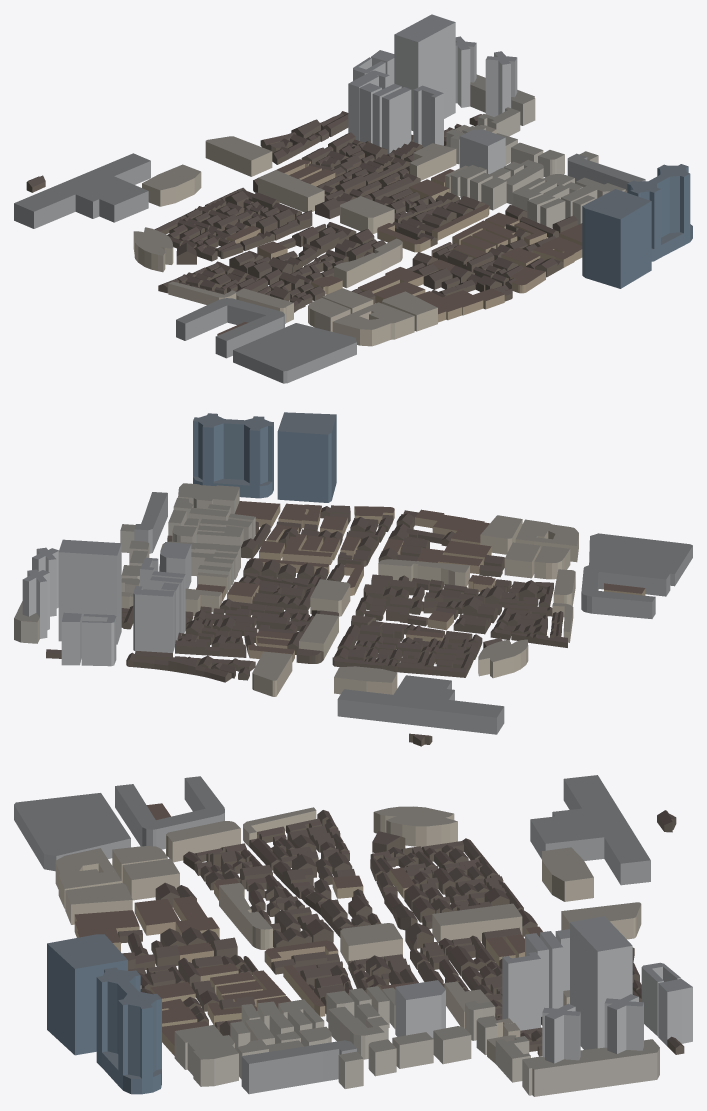
The model's file is tile_4_10.glb.
3 renders of one model, top to bottom at view 1: azimuth 30°, elevation 25°; view 2: azimuth 150°, elevation 25°; view 3: azimuth 270°, elevation 25°, orthographic. The views are drawn at different scales.
Parts seen in each view (by area): view 1: HP-w160964963, HP-w373833529, HP-w490267531, HP-w380339959, HP-w160895021, HP-w756799577, HP-w373833610, HP-w756801882, HP-w756797947, HP-w1198840848, HP-w373833618, HP-w414733147 (+27 smaller); view 2: HP-w160895021, HP-w373833529, HP-w160964963, HP-w380339959, HP-w756799577, HP-w490267531, HP-w1198664272, HP-w1198845807, HP-w1198842217, HP-w859078873, HP-w373833618, HP-w756801883 (+20 smaller); view 3: HP-w160895021, HP-w373833529, HP-w160964963, HP-w380339959, HP-w490267531, HP-w756801884, HP-w414733139, HP-w756799577, HP-w1198840848, HP-w859078873, HP-w414733147, HP-w756797947 (+51 smaller).
Part boxes in pixels (x1,y1,x2,y2): HP-w160964963: (582,189,651,288); HP-w373833529: (14,153,150,228); HP-w490267531: (233,323,356,383); HP-w380339959: (394,14,455,130); HP-w160895021: (627,164,692,261); HP-w756799577: (176,298,284,358); HP-w373833610: (205,136,272,176); HP-w756801882: (485,51,517,116); HP-w756797947: (258,170,324,212); HP-w1198840848: (413,85,443,147); HP-w373833618: (142,164,201,206); HP-w414733147: (459,129,505,174); HP-w160895021: (193,413,273,498); HP-w373833529: (337,675,504,734); HP-w160964963: (277,412,336,502); HP-w380339959: (58,539,121,644); HP-w756799577: (581,565,670,618); HP-w490267531: (589,533,692,586); HP-w1198664272: (133,586,174,652); HP-w1198845807: (81,614,116,666); HP-w1198842217: (378,559,469,586); HP-w859078873: (478,639,528,678); HP-w373833618: (334,666,397,694); HP-w756801883: (22,569,49,638); HP-w160895021: (96,967,161,1094); HP-w373833529: (530,775,650,885); HP-w160964963: (47,934,127,1055); HP-w380339959: (570,916,632,1049); HP-w490267531: (14,793,130,871); HP-w756801884: (522,1039,659,1096); HP-w414733139: (241,1040,356,1094); HP-w756799577: (115,776,224,849); HP-w1198840848: (502,952,540,1030); HP-w859078873: (373,806,457,846); HP-w414733147: (395,980,445,1038); HP-w756797947: (432,903,522,942).
Bounding box in the file's own units: 566 × 99 × 541.
